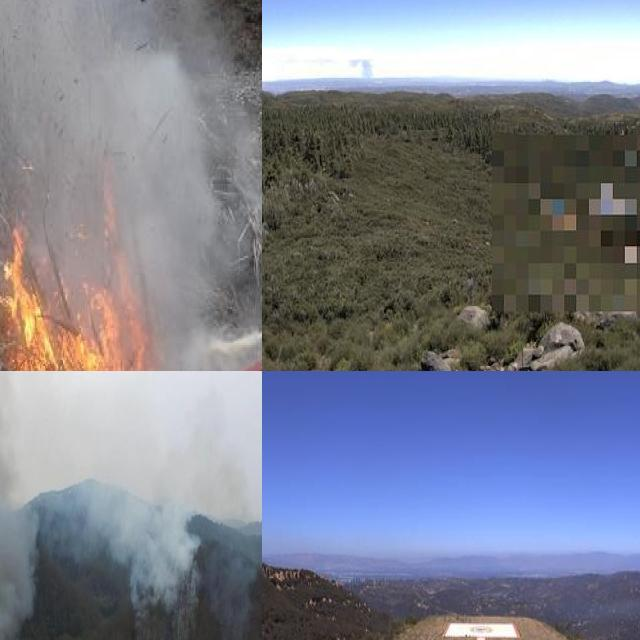fire: (0, 186, 182, 371)
smoke: (0, 0, 243, 371), (87, 386, 244, 616), (342, 54, 375, 87)
